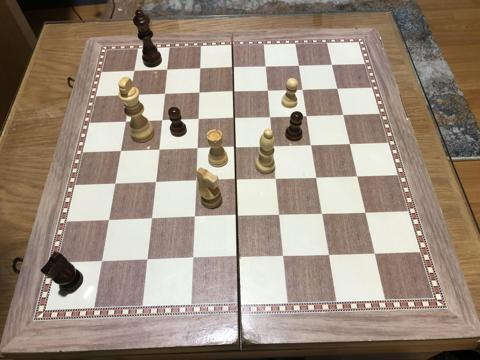xcorner: (260, 60, 272, 73), (158, 88, 171, 100), (124, 89, 136, 102), (228, 112, 241, 124), (268, 140, 280, 153), (115, 145, 127, 158), (352, 170, 364, 183), (274, 209, 286, 222), (231, 211, 244, 223), (146, 213, 158, 226), (278, 250, 290, 263), (142, 254, 154, 267), (326, 58, 338, 70), (293, 59, 305, 71), (227, 62, 239, 74), (194, 63, 206, 75), (161, 64, 173, 76), (128, 65, 140, 77), (332, 82, 344, 94), (297, 83, 309, 95), (262, 85, 274, 97), (228, 86, 240, 98), (193, 87, 205, 99), (338, 109, 350, 121), (301, 110, 313, 122), (265, 111, 277, 123), (192, 114, 204, 126), (156, 115, 168, 127), (120, 116, 132, 128), (345, 138, 357, 150), (306, 139, 318, 151), (229, 142, 241, 154), (191, 143, 203, 155), (153, 144, 165, 156), (311, 172, 323, 184), (271, 173, 283, 185), (230, 174, 242, 186), (190, 176, 202, 188), (150, 177, 162, 189), (110, 178, 122, 190), (360, 207, 372, 219), (317, 208, 329, 220), (189, 212, 201, 224), (104, 215, 116, 227), (370, 248, 382, 260), (324, 249, 336, 261), (233, 252, 245, 264), (187, 253, 199, 265), (97, 256, 109, 268)
